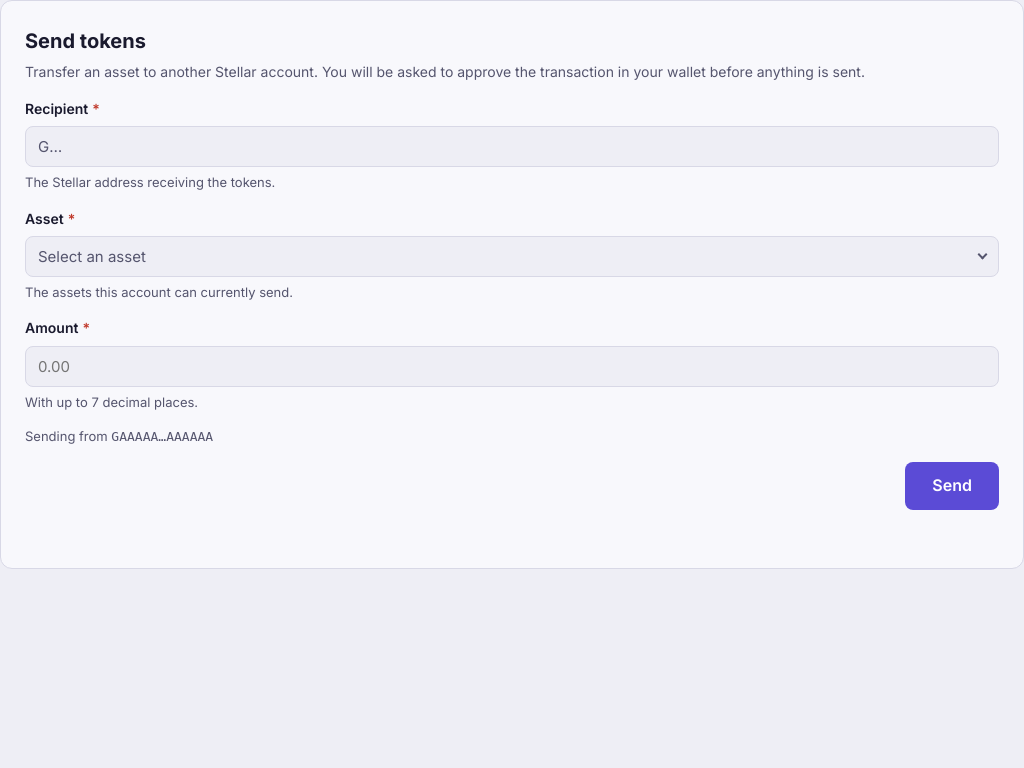
Scenario: TransferTokenForm › validation › reports a recipient that is not a Stellar public key
Step 1. Type "nope" into the field labelled "Recipient*" → (512, 147), box [38,127,986,166]
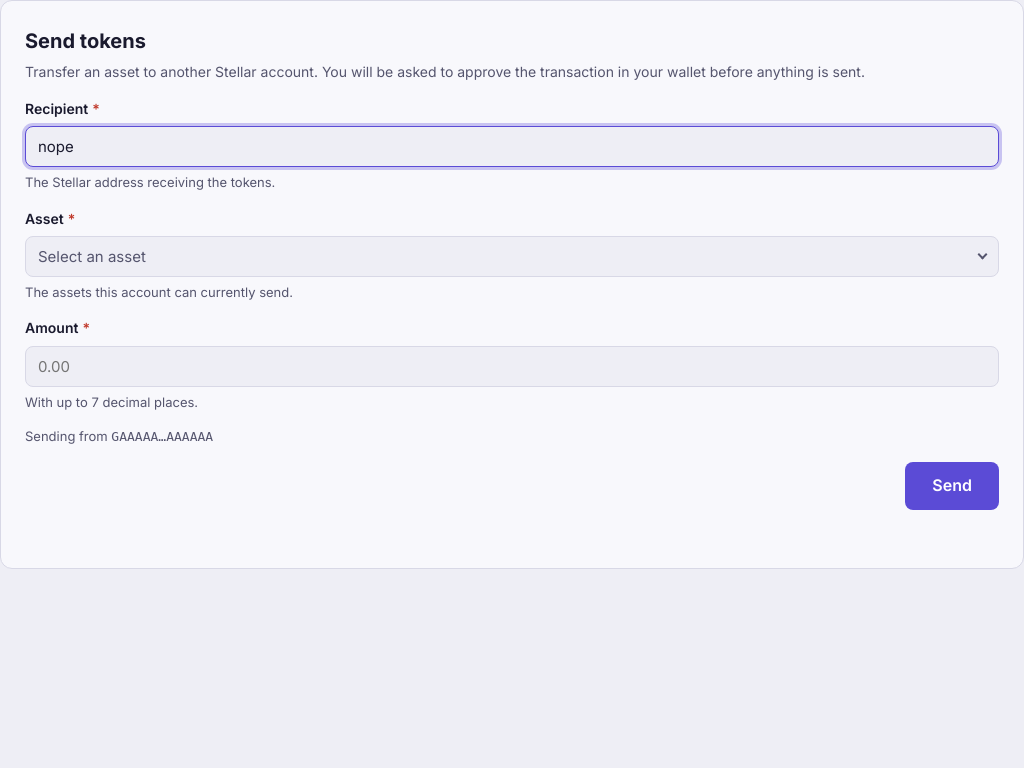
Step 2. Click the button "Send" → (952, 486), box [905,462,999,510]
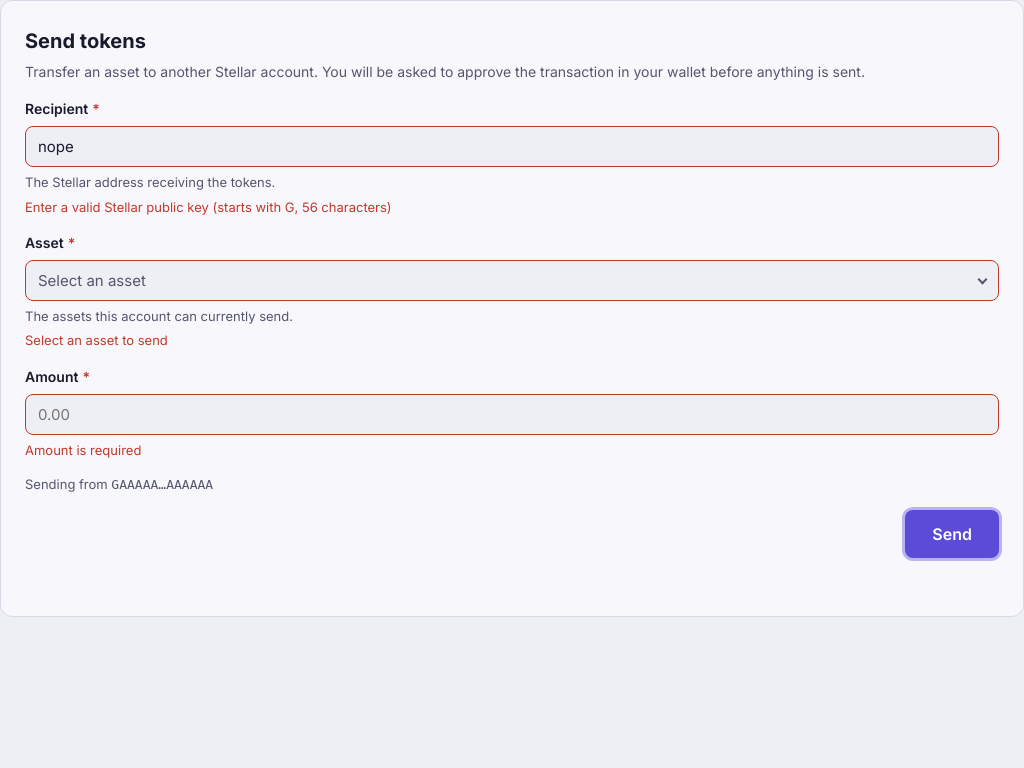
Check: the text "Enter a valid Stellar public key (starts with G, 56 characters)" is shown, box [25,199,392,215]
